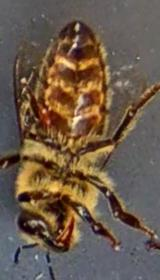varroa_mite: (30, 99, 63, 133)
